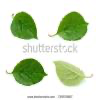Apple leaf: (51, 55, 96, 88), (51, 8, 91, 44), (10, 58, 49, 88), (8, 9, 41, 42)
